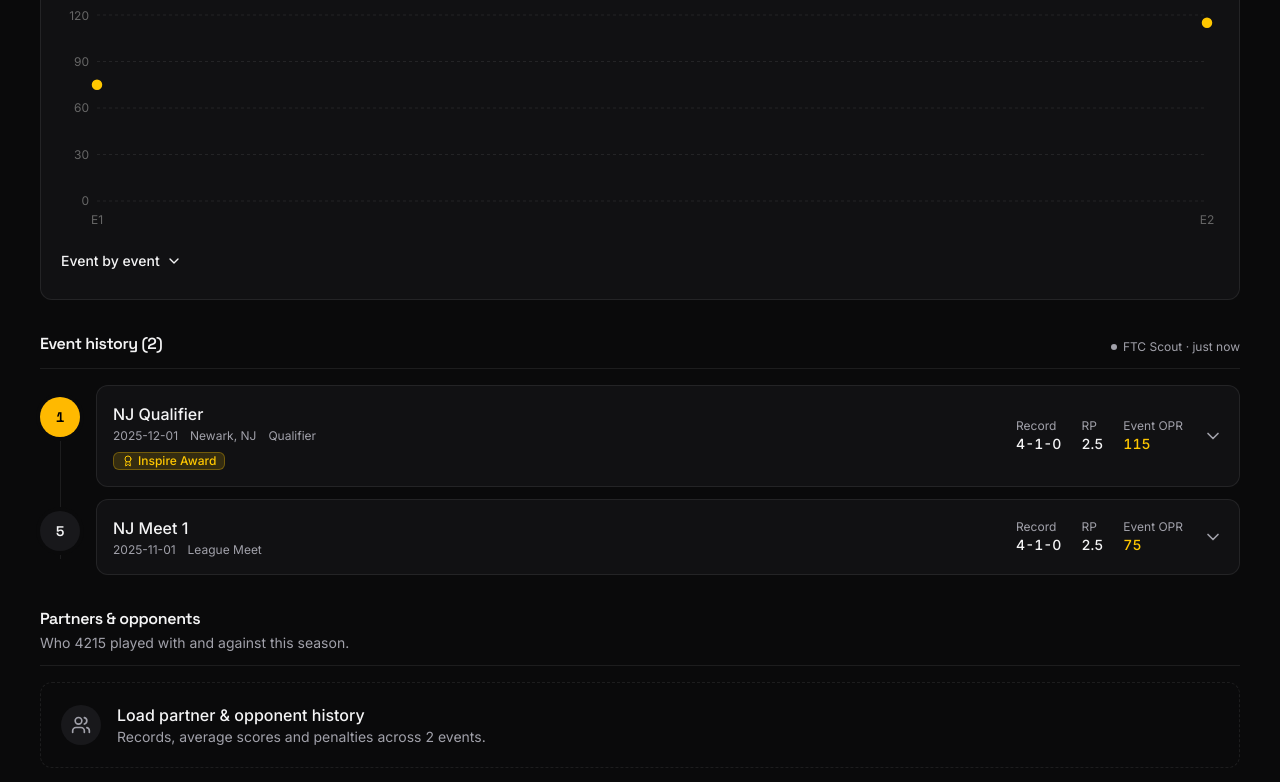
Test: Modern Team Stats · Compete › opens an event lazily, then a match with its alliance breakdown
The width and height of the screenshot is (1280, 782).
(page scrolled)
Click the button "NJ Qualifier": click(158, 414) [97, 386, 1239, 486]
(page scrolled)
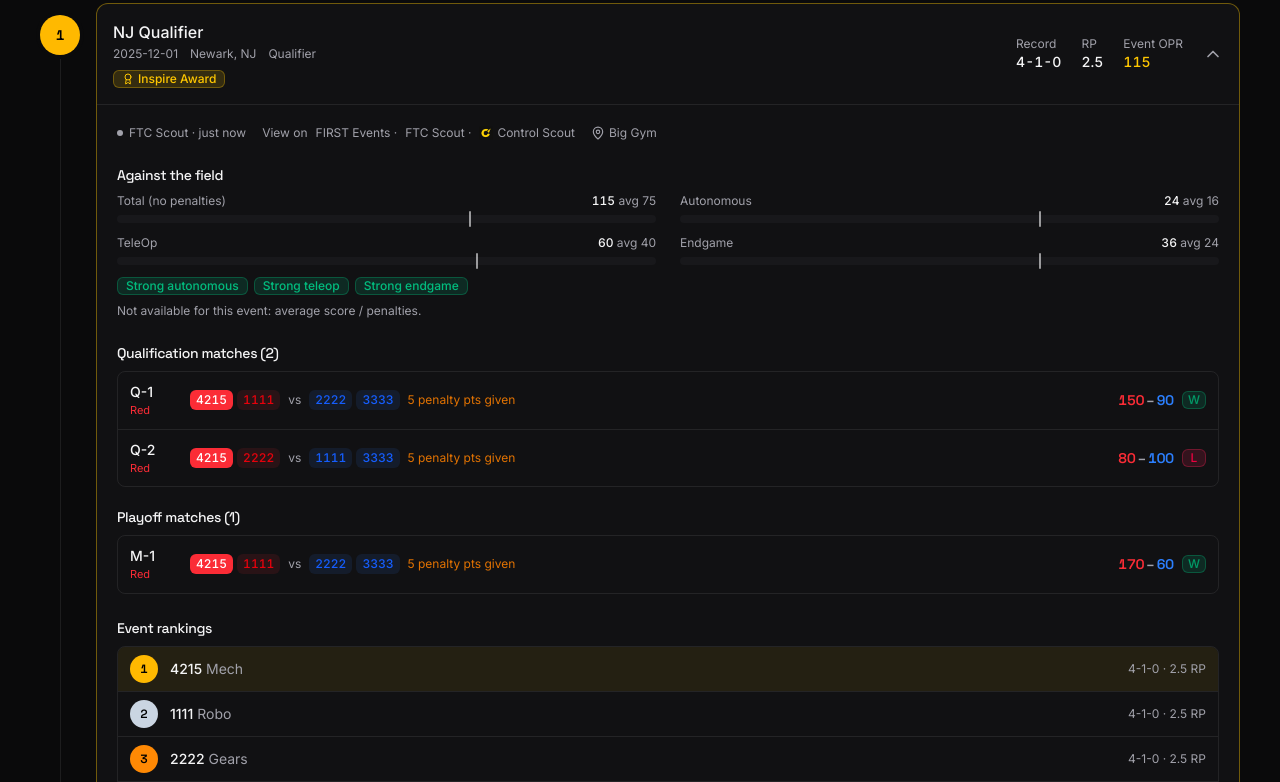
Now the heading "Against the field" is shown, box [117, 166, 223, 184]
Now the heading "Qualification matches (2)" is shown, box [117, 344, 278, 362]
Now the heading "Playoff matches (1)" is shown, box [117, 508, 240, 526]
Click the button with aria-label "Q-1: win, 150 to 90": click(212, 400) [118, 372, 1218, 428]
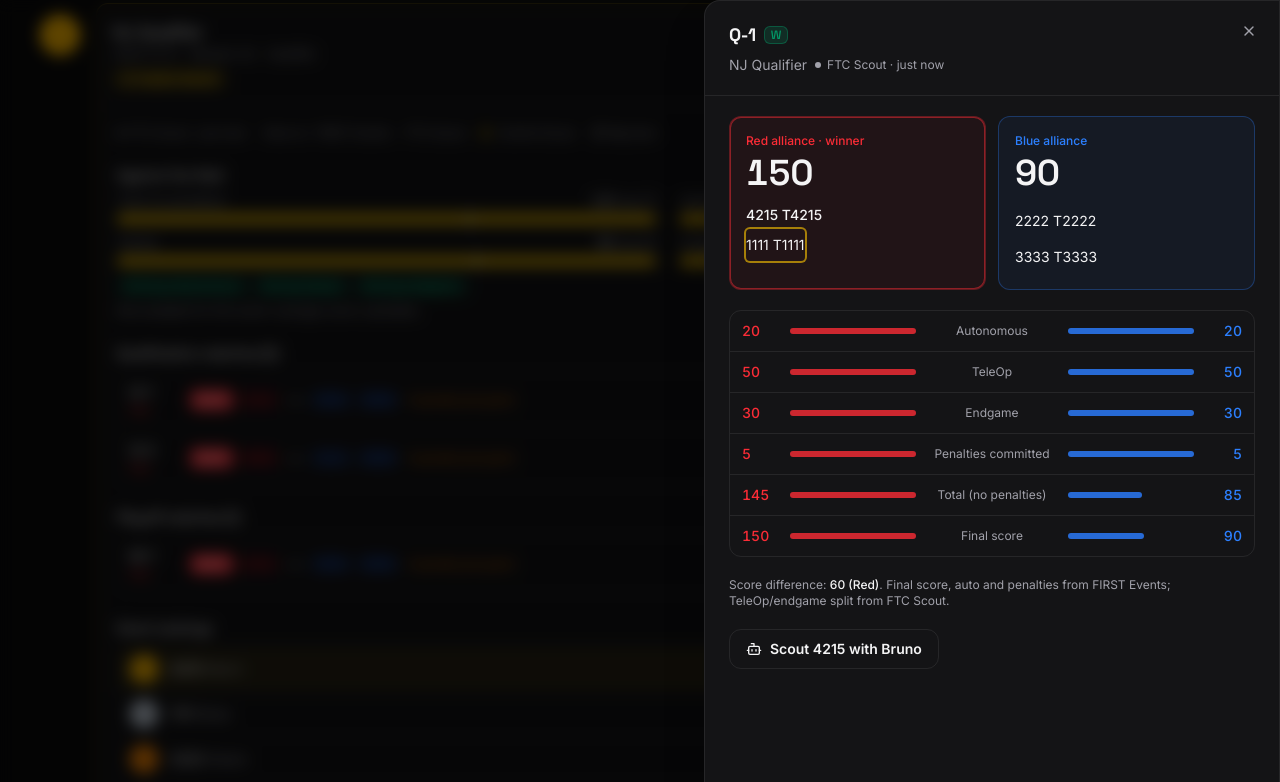
Now the text "Red alliance · winner" is shown, box [746, 133, 864, 148]
Now the text "Penalties committed" is shown, box [928, 446, 1056, 462]
Now the text "Score difference" shows "60 (Red)", box [830, 577, 879, 592]
